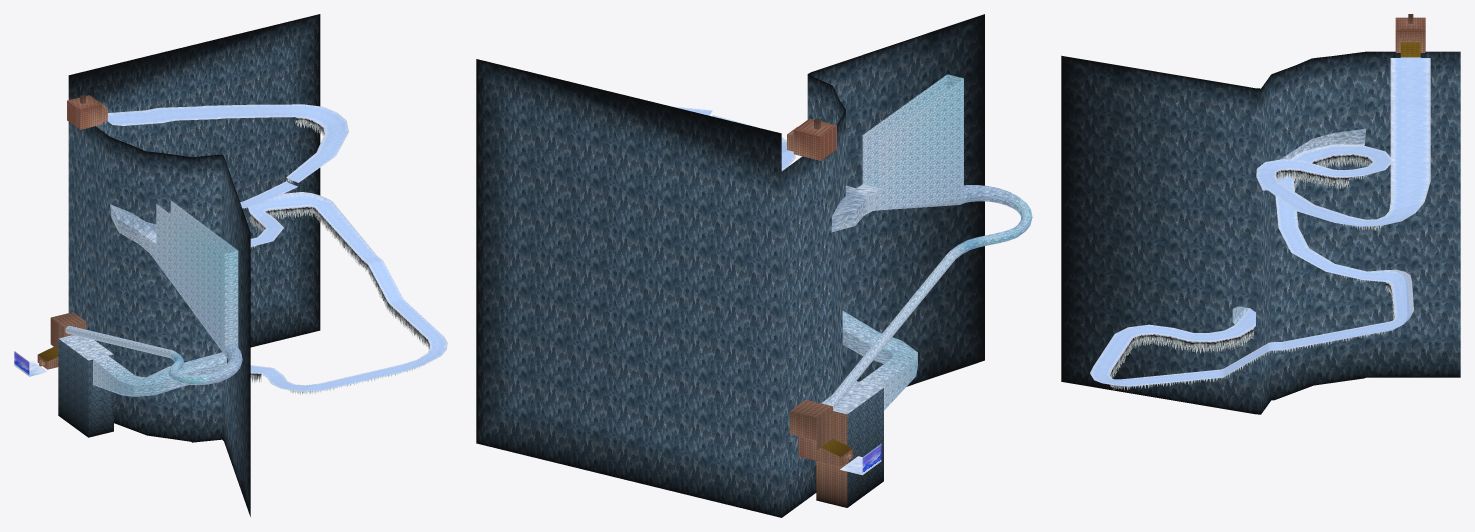
File: snow_slider_all.glb
The picture shows the model from 3 angles, left to right: view 1: azimuth 30°, elevation 25°; view 2: azimuth 150°, elevation 25°; view 3: azimuth 270°, elevation 25°; orthographic projection. The views are drawn at different scales.
Parts seen in each view (by area): view 1: snow_slider_all; view 2: snow_slider_all; view 3: snow_slider_all.
Boxes of the visible parts, left/top/right/bottom form: snow_slider_all: left=14, top=14, right=447, bottom=516; snow_slider_all: left=476, top=14, right=1032, bottom=517; snow_slider_all: left=1061, top=14, right=1460, bottom=414.
Bounding box in the file's own units: 16.5 × 16 × 16.
13 materials, 13 textured.
